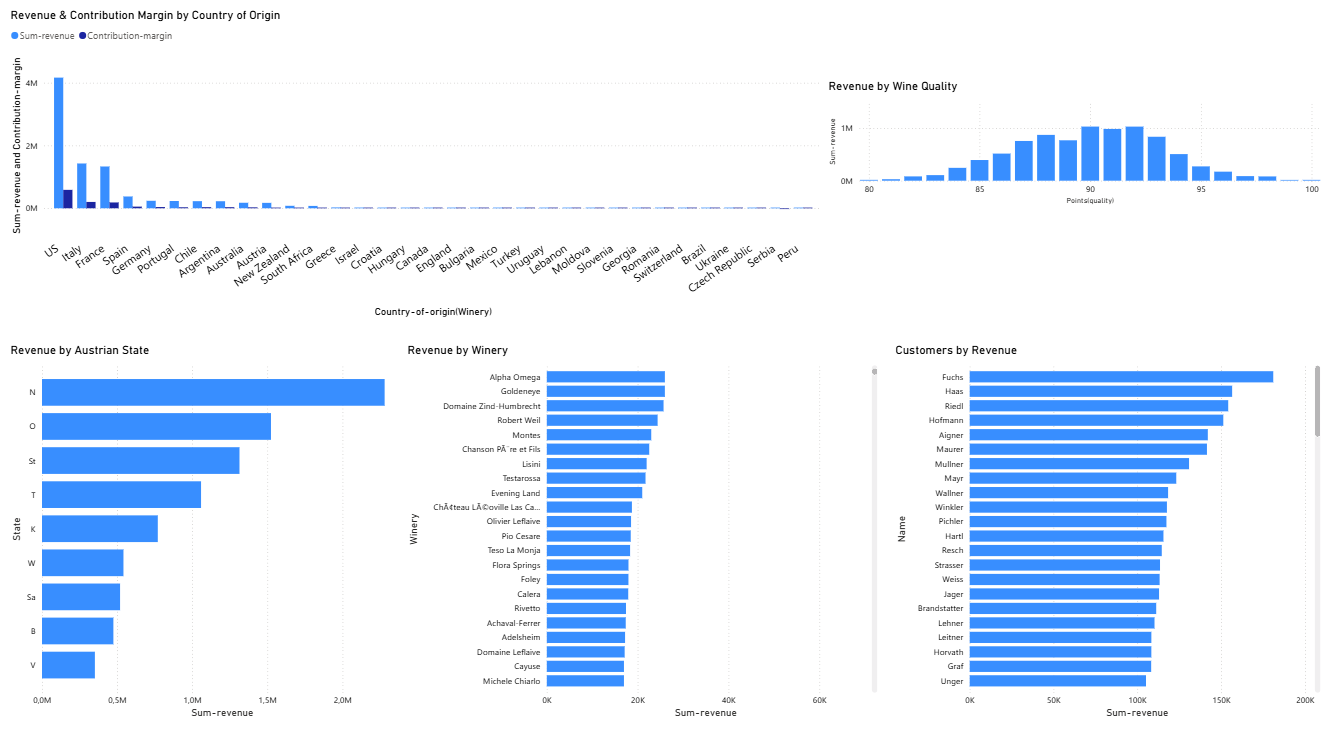

What the dashboard file says about the page in this screenshot:
{"tool":"powerbi","page":{"name":"Page 2","canvas":[1920,1080],"ordinal":1},"visuals":[{"type":"clusteredColumnChart","title":"Revenue & Contribution Margin by Country of Origin","fields":{"Category":["Orders.Country-of-origin(Winery)"],"Y":["Orders.Sum-revenue","Orders.Contribution-margin"]},"box":[15,17.5,1168.8,446.2],"z":2},{"type":"clusteredBarChart","title":"Revenue by Austrian State","fields":{"Category":["Customer.State"],"Y":["Orders.Sum-revenue"]},"box":[15.7,495.7,584.3,541.4],"z":3},{"type":"clusteredColumnChart","title":"Revenue by Wine Quality","fields":{"Category":["Orders.Points(quality)"],"Y":["Orders.Sum-revenue"]},"box":[1184.3,118.6,712.9,184.3],"z":5},{"type":"barChart","title":"Customers by Revenue","fields":{"Category":["Customer.Name"],"Y":["Orders.Sum-revenue"]},"box":[1280,495.7,617.1,541.4],"z":6},{"type":"clusteredBarChart","title":"Revenue by Winery","fields":{"Category":["Orders.Winery"],"Y":["Orders.Sum-revenue"]},"box":[582.9,495.7,681.4,541.4],"z":7}]}

Visuals, with their boxes in screenshot pixels (x1, y1, x2, y2), scaled from the page's 1920x1080 canvas onto the 1333x734 screenshot:
"Revenue & Contribution Margin by Country of Origin" clusteredColumnChart: crop(10, 12, 822, 315)
"Revenue by Austrian State" clusteredBarChart: crop(11, 337, 417, 705)
"Revenue by Wine Quality" clusteredColumnChart: crop(822, 81, 1317, 206)
"Customers by Revenue" barChart: crop(889, 337, 1317, 705)
"Revenue by Winery" clusteredBarChart: crop(405, 337, 878, 705)
